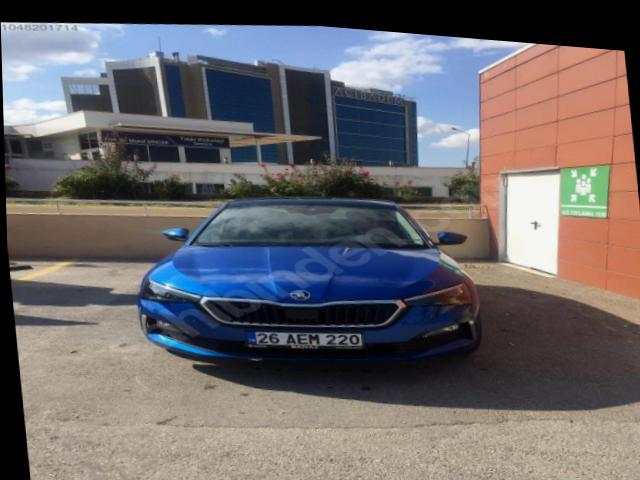plaka: (248, 331, 363, 348)
